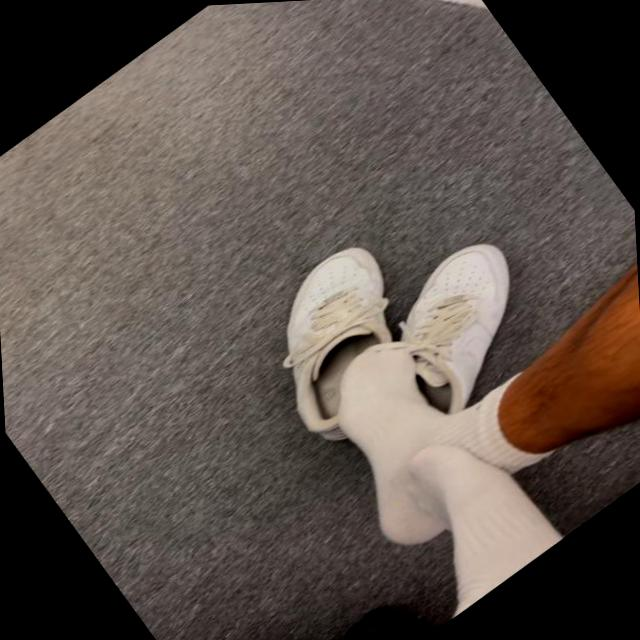nike_fake_airforce: (262, 213, 638, 578), (223, 226, 467, 472)
